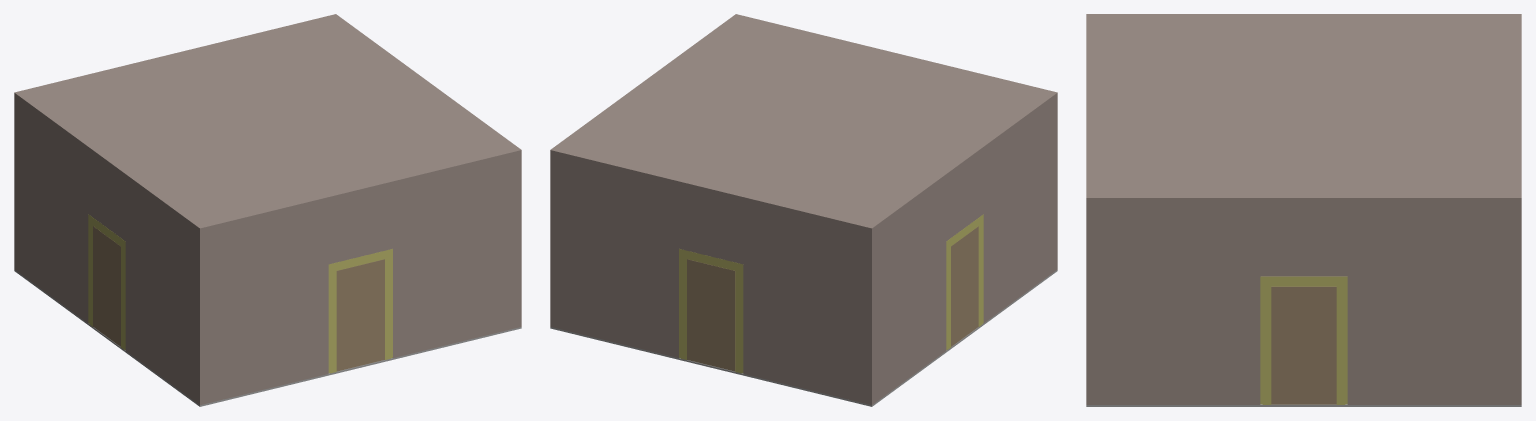
The model's file is Room45_UpperLanding.fbx.
3 renders of one model, left to right at view 1: azimuth 30°, elevation 25°; view 2: azimuth 150°, elevation 25°; view 3: azimuth 270°, elevation 25°, orthographic. The views are drawn at different scales.
Visible parts, largest first — view 1: Roof, WallSlicedPosZ, WallSlicedPosX, DoorPosZ, DoorPosX, DoorFramePosZ, DoorFramePosX, Floor1, WallSlicedNegZ; view 2: Roof, WallSlicedNegZ, WallSlicedPosX, DoorNegZ, DoorPosX, DoorFrameNegZ, DoorFramePosX, Floor1, WallSlicedPosZ; view 3: Roof, WallSlicedNegX, DoorNegX, DoorFrameNegX, Floor2, WallSlicedNegZ, WallSlicedPosZ, WallSlicedPosX.
Part boxes in pixels (bbox=[...]): Roof: bbox=[16, 15, 519, 227]; WallSlicedPosZ: bbox=[198, 149, 521, 405]; WallSlicedPosX: bbox=[14, 92, 202, 404]; DoorPosZ: bbox=[336, 259, 384, 371]; DoorPosX: bbox=[93, 226, 120, 346]; DoorFramePosZ: bbox=[328, 249, 392, 373]; DoorFramePosX: bbox=[88, 214, 125, 349]; Floor1: bbox=[14, 269, 296, 406]; WallSlicedNegZ: bbox=[14, 14, 336, 268]; Roof: bbox=[552, 15, 1055, 227]; WallSlicedNegZ: bbox=[550, 149, 872, 404]; WallSlicedPosX: bbox=[869, 92, 1057, 405]; DoorNegZ: bbox=[687, 259, 735, 371]; DoorPosX: bbox=[951, 226, 978, 346]; DoorFrameNegZ: bbox=[679, 249, 743, 373]; DoorFramePosX: bbox=[946, 214, 983, 349]; Floor1: bbox=[775, 269, 1057, 406]; WallSlicedPosZ: bbox=[735, 14, 1057, 231]; Roof: bbox=[1088, 14, 1519, 197]; WallSlicedNegX: bbox=[1086, 197, 1521, 404]; DoorNegX: bbox=[1271, 286, 1336, 404]; DoorFrameNegX: bbox=[1260, 276, 1347, 404]; Floor2: bbox=[1086, 404, 1521, 406]; WallSlicedNegZ: bbox=[1518, 14, 1521, 404]; WallSlicedPosZ: bbox=[1086, 14, 1089, 404]; WallSlicedPosX: bbox=[1088, 14, 1521, 14].
Size of the model in its own units: 100 by 53 by 100.
